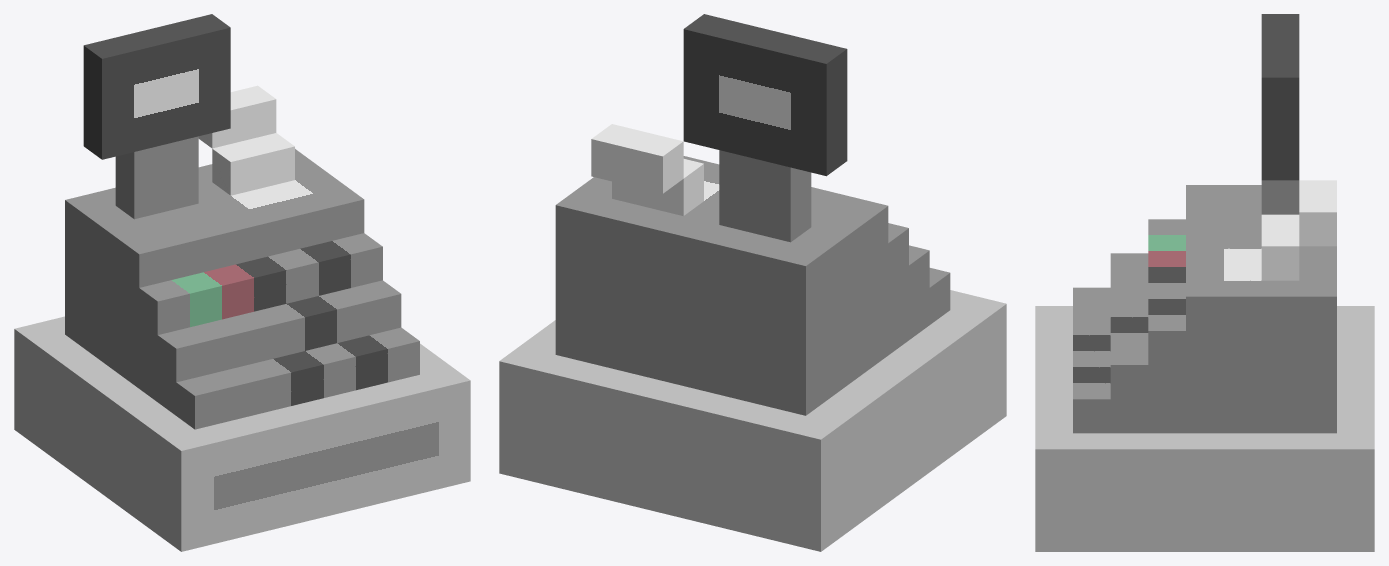
The model's file is kasa_export.dae.
3 renders of one model, left to right at view 1: azimuth 30°, elevation 25°; view 2: azimuth 150°, elevation 25°; view 3: azimuth 270°, elevation 25°, orthographic. The views are drawn at different scales.
Parts seen in each view (by area): view 1: kasa; view 2: kasa; view 3: kasa.
Boxes of the visible parts, x1,y1,x2,y2 form: kasa: [14, 14, 470, 551]; kasa: [499, 14, 1006, 551]; kasa: [1035, 14, 1374, 551].
Size of the model in its own units: 9 by 12 by 9.
1 material, 1 textured.
